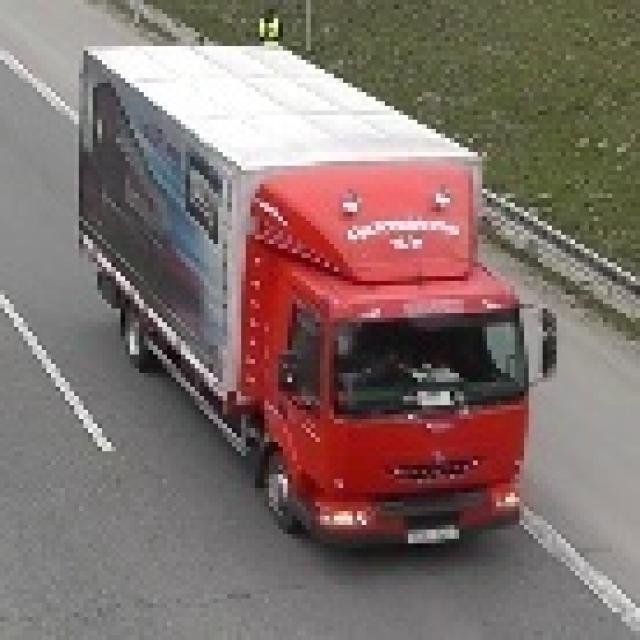truck: (69, 37, 552, 548)
